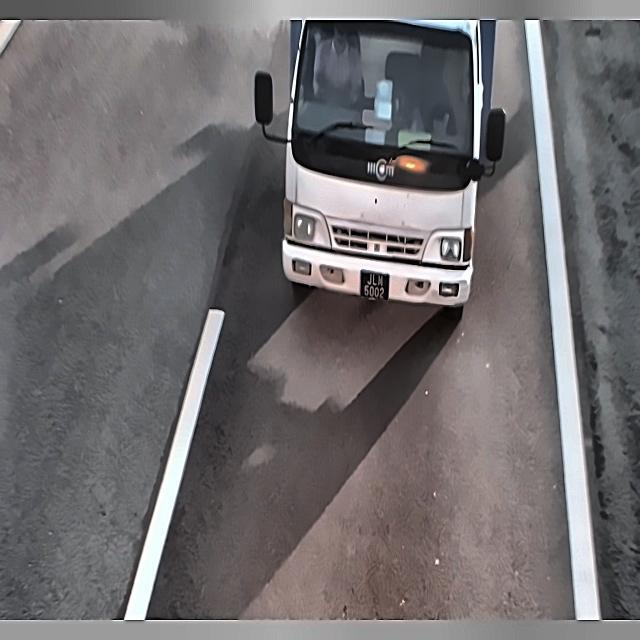car: (349, 262, 397, 307)
